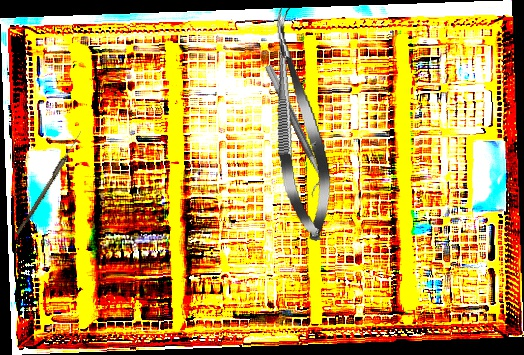Fixation Ring: (254, 63, 331, 199)
Micro Scissor: (255, 3, 341, 245)
Surgical Spoon: (15, 129, 84, 237)
